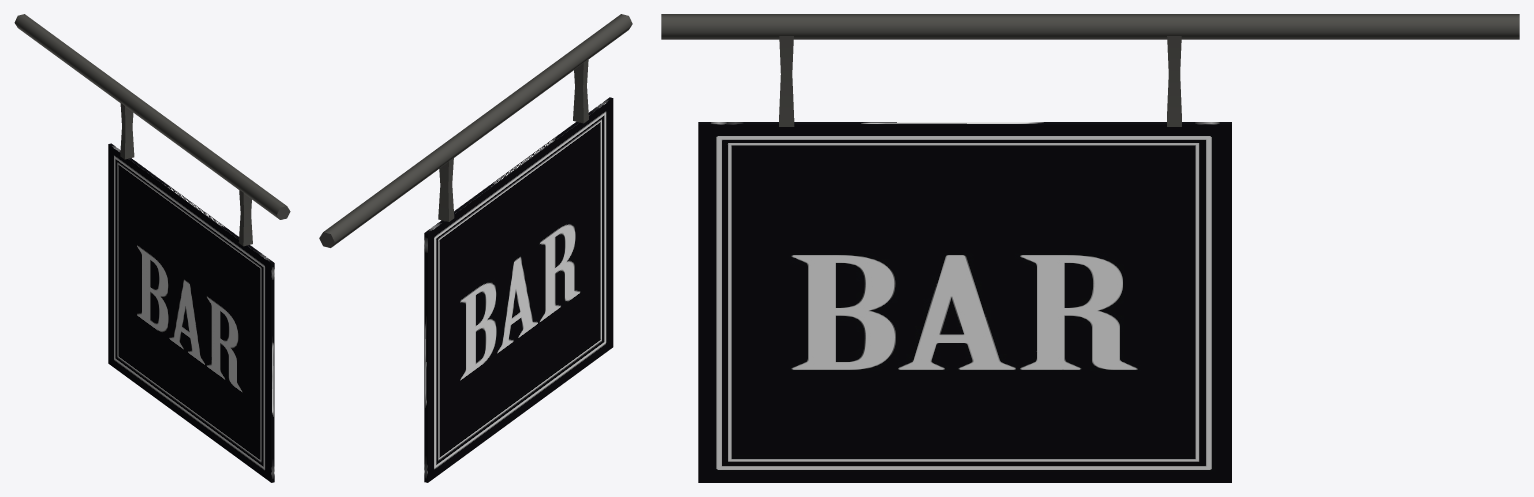
The model's file is HangingMetalBoard.FBX.
The picture shows the model from 3 angles, left to right: view 1: azimuth 30°, elevation 25°; view 2: azimuth 150°, elevation 25°; view 3: azimuth 270°, elevation 25°; orthographic projection. The views are drawn at different scales.
Parts seen in each view (by area): view 1: Object087; view 2: Object087; view 3: Object087.
Part boxes in pixels (x1=…): Object087: x1=14, y1=14, x2=290, y2=482; Object087: x1=319, y1=14, x2=632, y2=482; Object087: x1=661, y1=14, x2=1519, y2=482.
Bounding box in the file's own units: 0.8621 × 17.08 × 28.6.
Materials: 2 (2 with a texture image).
